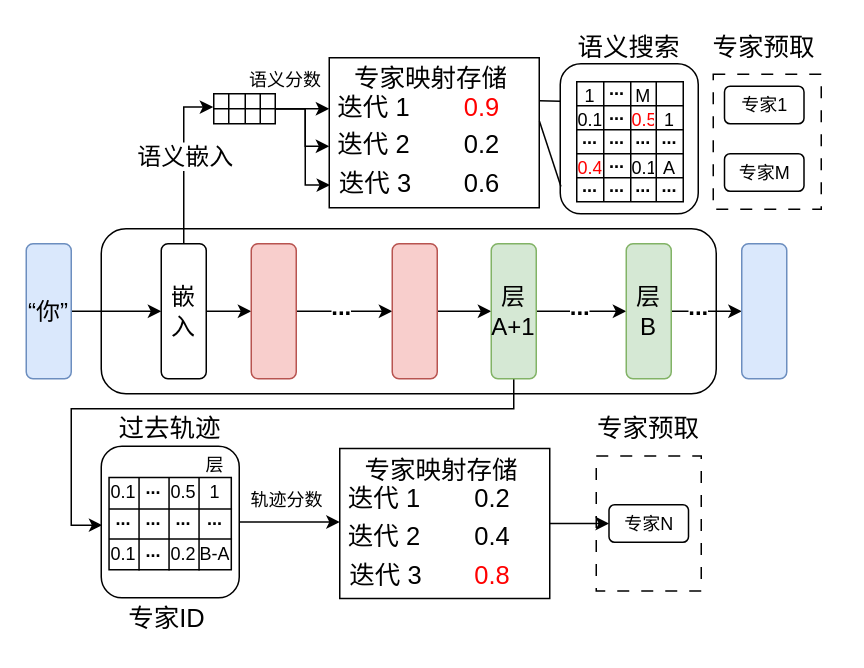
Image size: 864x668. Some labels were removed from this diagram. The centre of each missing label's shape, as x and y in pixels:
“好”: the point at 763,310
层 1: the point at 273,310
层 A: the point at 414,310
